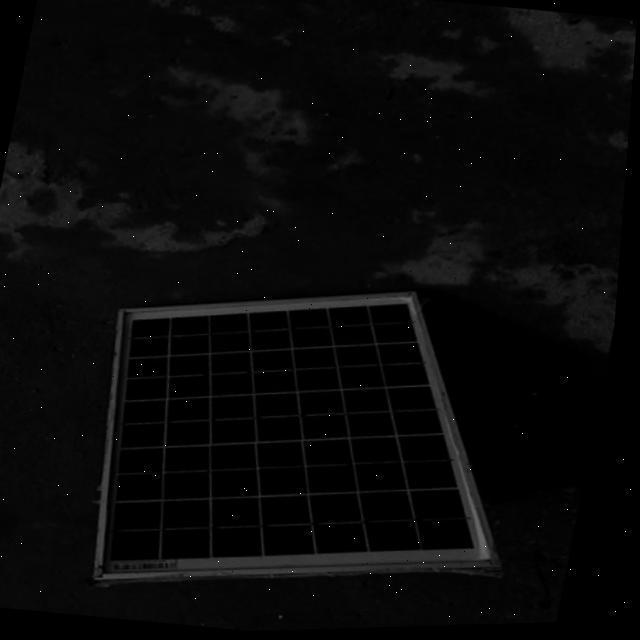Normal Solar Panel: (74, 254, 560, 629)
